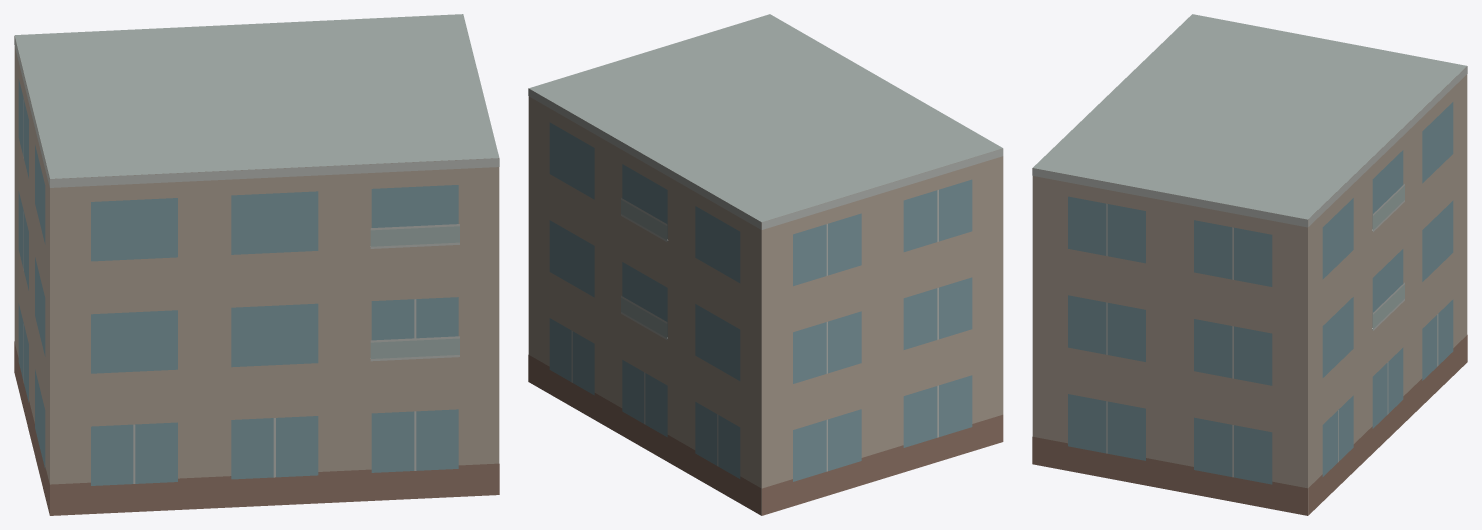
File: survey-upis-32572373.glb
The picture shows the model from 3 angles, left to right: view 1: azimuth 30°, elevation 25°; view 2: azimuth 150°, elevation 25°; view 3: azimuth 270°, elevation 25°; orthographic projection. The views are drawn at different scales.
Visible parts, largest first — view 1: survey-upis-32572373.tmp; view 2: survey-upis-32572373.tmp; view 3: survey-upis-32572373.tmp.
Part boxes in pixels (bbox=[...]): survey-upis-32572373.tmp: bbox=[14, 14, 499, 515]; survey-upis-32572373.tmp: bbox=[528, 14, 1003, 515]; survey-upis-32572373.tmp: bbox=[1032, 14, 1467, 515].
Bounding box in the file's own units: 13.63 × 9.15 × 12.18.
